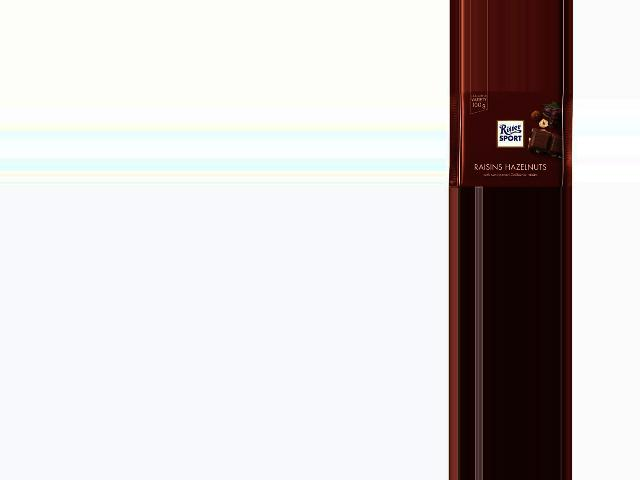chocolate: (449, 91, 574, 188)
